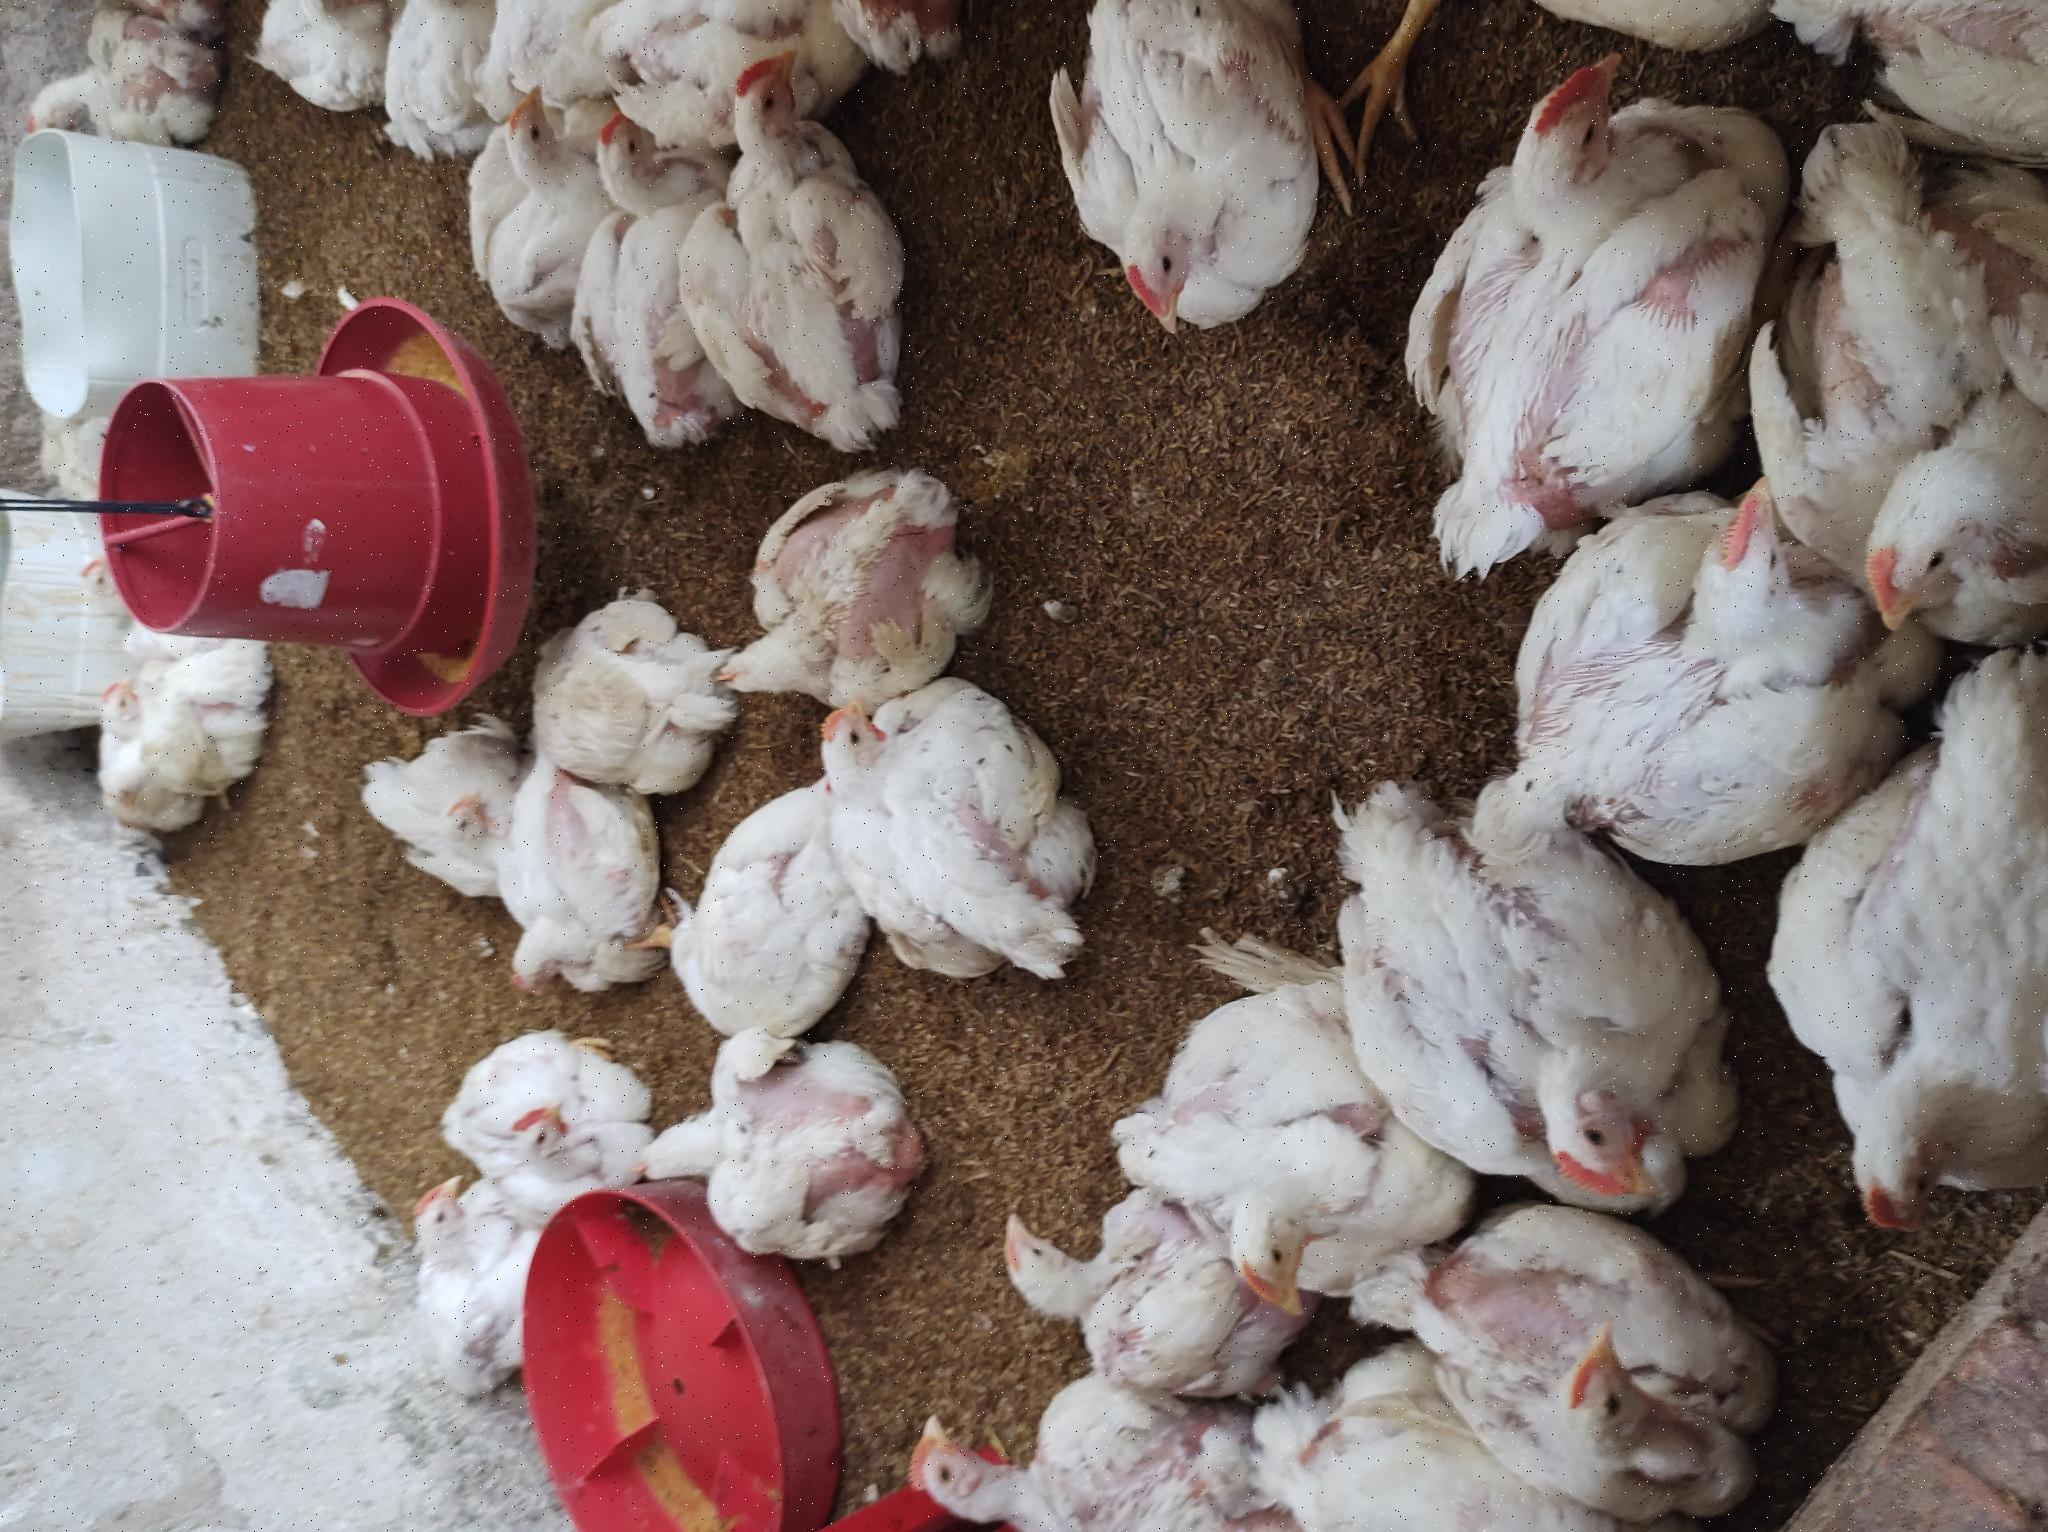Pollos: (1199, 1028, 1535, 1344), (1096, 682, 1472, 901), (224, 1196, 537, 1442), (552, 826, 835, 1094), (265, 640, 499, 937), (835, 718, 1068, 991), (1031, 1389, 1475, 1532), (447, 679, 766, 864), (317, 1406, 783, 1532), (2, 895, 166, 1246), (1136, 536, 1421, 706), (158, 975, 351, 1218), (735, 509, 936, 721), (2, 1392, 304, 1532), (533, 494, 759, 677), (315, 452, 504, 657), (143, 391, 376, 536), (652, 343, 812, 520), (1195, 480, 1425, 594), (1388, 24, 1512, 203), (1419, 249, 1533, 396), (1382, 370, 1527, 475), (706, 79, 859, 159), (914, 47, 988, 130)
